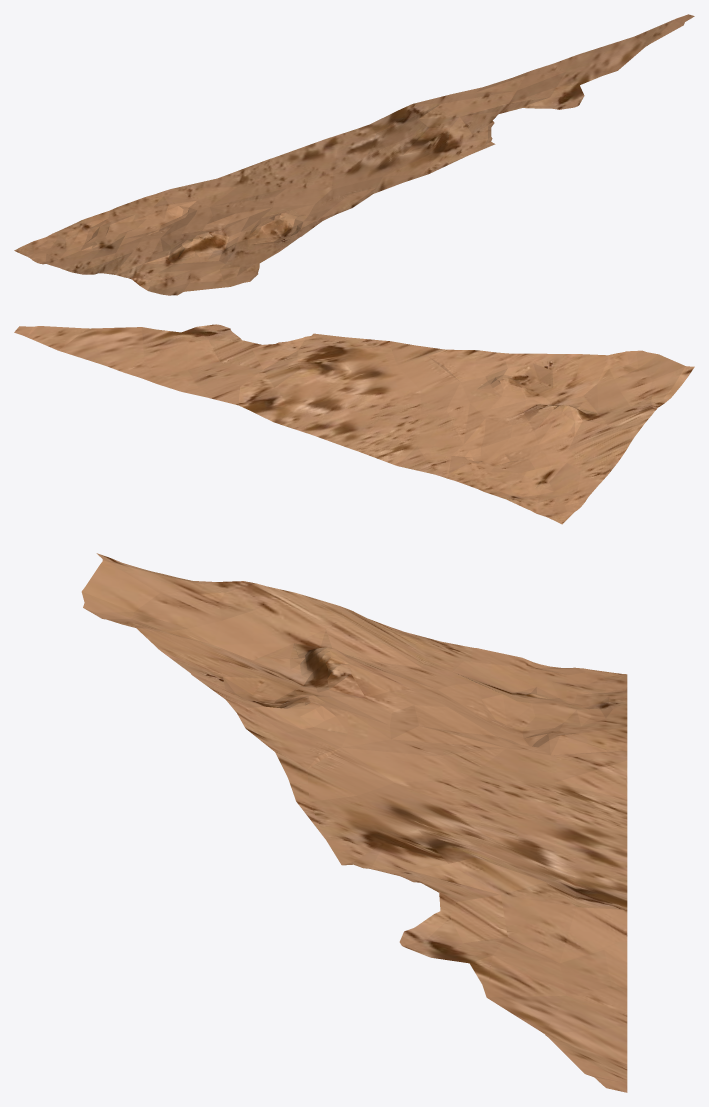
3 views of the same model, one above another, from view 1: azimuth 30°, elevation 25°; view 2: azimuth 150°, elevation 25°; view 3: azimuth 270°, elevation 25° (orthographic). The views are drawn at different scales.
Bounding box in the file's own units: 1.04 × 0.1103 × 0.4503.
Materials: 1 (1 with a texture image).
